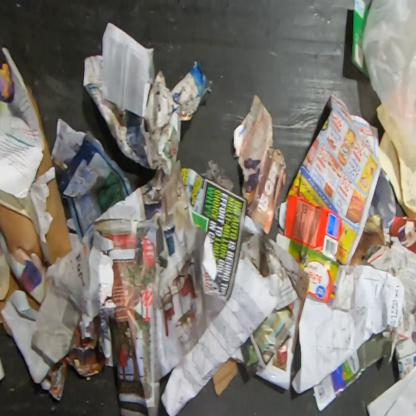cardboard: (0, 81, 75, 275), (212, 357, 239, 395)
soft_plastic: (362, 0, 415, 167)
